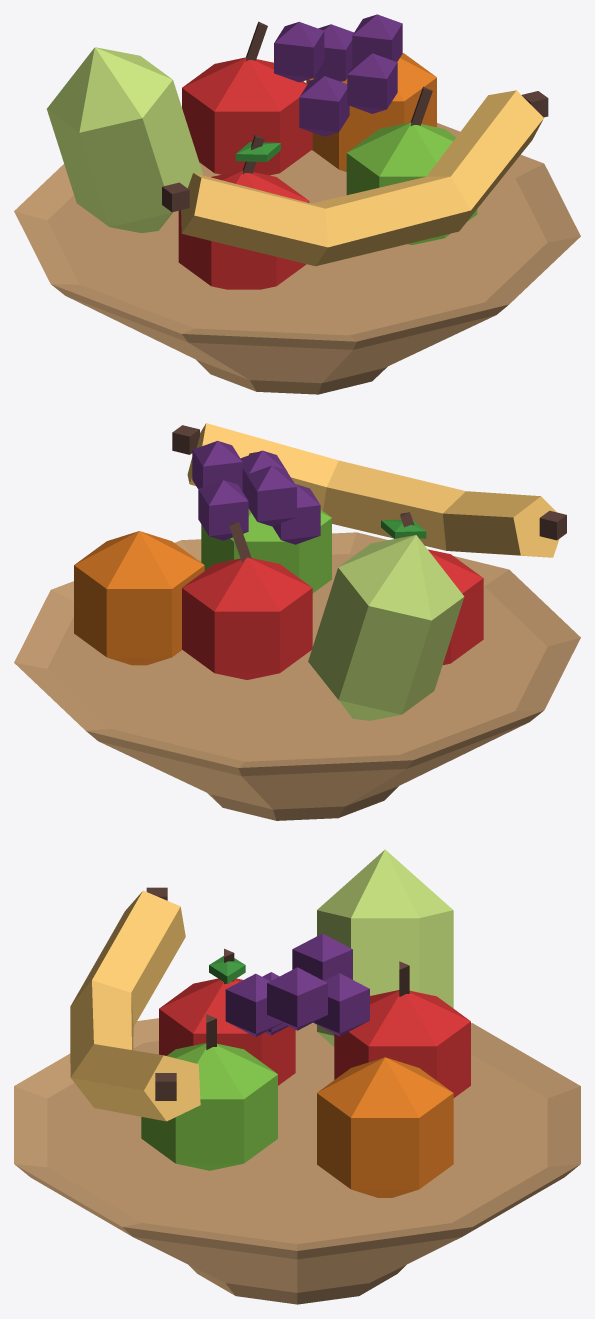
The model's file is obstschale.glb.
The picture shows the model from 3 angles, top to bottom: view 1: azimuth 30°, elevation 25°; view 2: azimuth 150°, elevation 25°; view 3: azimuth 270°, elevation 25°; orthographic projection. The views are drawn at different scales.
Parts seen in each view (by area): view 1: obstschale-m; view 2: obstschale-m; view 3: obstschale-m.
Part boxes in pixels (x1,y1,x2,y2): obstschale-m: (14,14,580,394); obstschale-m: (14,423,580,820); obstschale-m: (14,849,580,1304).
Size of the model in its own units: 0.34 by 0.21 by 0.3234.
